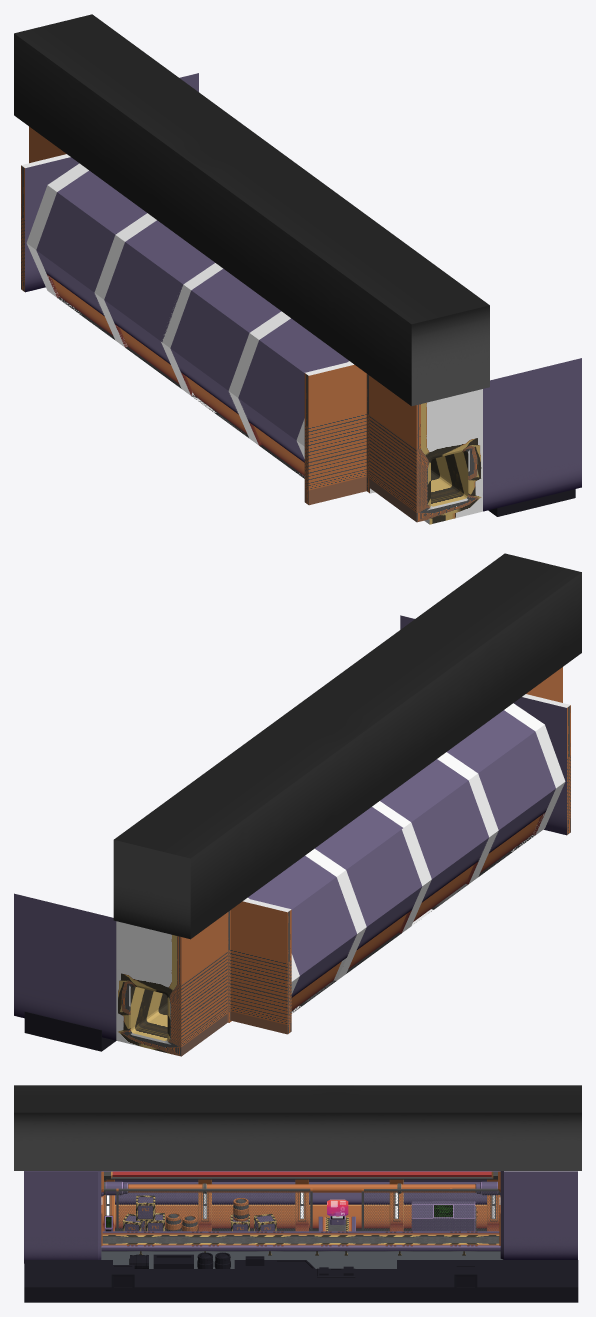
File: Roboman_corridor.glb
3 renders of one model, top to bottom at view 1: azimuth 30°, elevation 25°; view 2: azimuth 150°, elevation 25°; view 3: azimuth 270°, elevation 25°, orthographic. The views are drawn at different scales.
Parts seen in each view (by area): view 1: Cube.025, Entrance, Wall_4, Wall_3, Wall_2, Wall_1, Entrance.001, Support_Beam, Foreground; view 2: Cube.025, Entrance.001, Wall_1, Wall_2, Wall_3, Wall_4, Entrance, Foreground, Support_Beam; view 3: Cube.025, Foreground, Entrance, Entrance.001, Mask_element_!, Plane, Mask_element_!.001, Wall_2, Wall_3, Wall_1, Wall_4, Red_tube_bg (+21 smaller).
Boxes of the visible parts, left/top/right/bottom form: Cube.025: left=14, top=14, right=489, bottom=406; Entrance: left=304, top=358, right=581, bottom=524; Wall_4: left=26, top=163, right=146, bottom=339; Wall_3: left=94, top=213, right=214, bottom=388; Wall_2: left=161, top=263, right=281, bottom=437; Wall_1: left=238, top=318, right=349, bottom=478; Entrance.001: left=21, top=73, right=198, bottom=292; Support_Beam: left=228, top=311, right=290, bottom=445; Foreground: left=488, top=489, right=575, bottom=516; Cube.025: left=113, top=553, right=581, bottom=939; Entrance.001: left=14, top=893, right=291, bottom=1056; Wall_1: left=447, top=703, right=565, bottom=876; Wall_2: left=372, top=759, right=488, bottom=933; Wall_3: left=305, top=807, right=422, bottom=980; Wall_4: left=247, top=856, right=356, bottom=1013; Entrance: left=400, top=615, right=570, bottom=835; Foreground: left=24, top=1011, right=116, bottom=1051; Support_Beam: left=437, top=752, right=498, bottom=884; Cube.025: left=14, top=1085, right=581, bottom=1170; Foreground: left=24, top=1254, right=578, bottom=1302; Entrance: left=24, top=1171, right=103, bottom=1263; Entrance.001: left=498, top=1171, right=577, bottom=1259; Mask_element_!: left=102, top=1188, right=312, bottom=1231; Plane: left=101, top=1248, right=503, bottom=1268; Mask_element_!.001: left=361, top=1188, right=500, bottom=1231; Wall_2: left=212, top=1171, right=308, bottom=1231; Wall_3: left=306, top=1171, right=403, bottom=1231; Wall_1: left=101, top=1171, right=198, bottom=1231; Wall_4: left=403, top=1171, right=500, bottom=1231; Red_tube_bg: left=104, top=1171, right=497, bottom=1178.
Size of the model in its own units: 5.82 by 5.39 by 17.58.
Materials: 18 (16 with a texture image).
